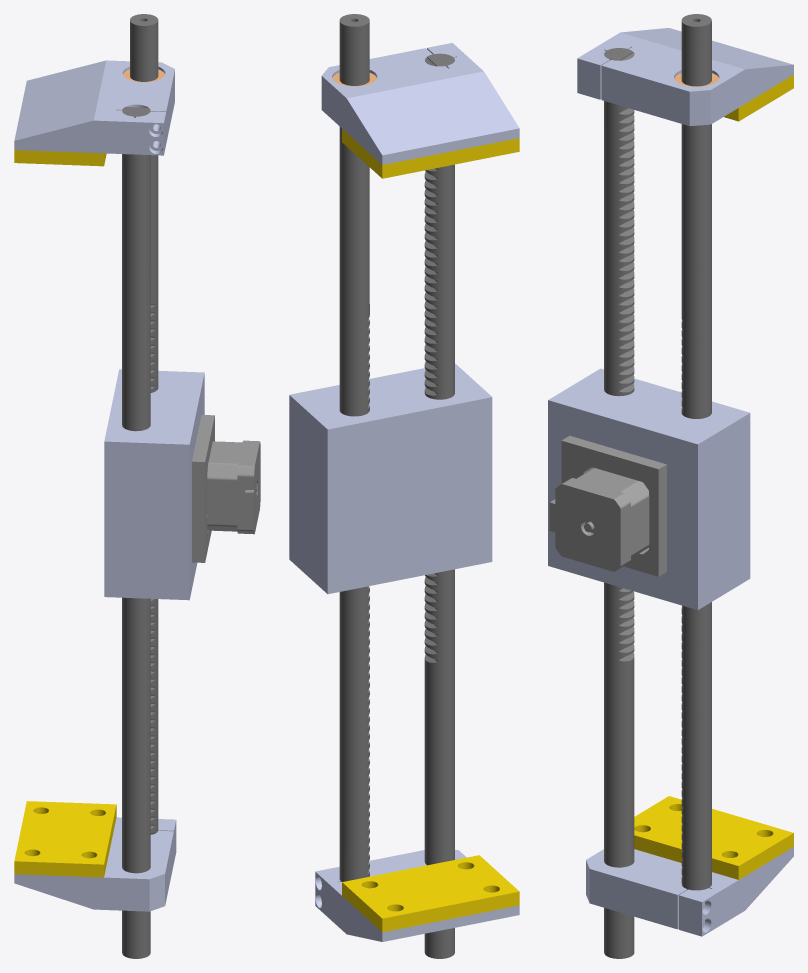
The model's file is endd effector working.obj.
The picture shows the model from 3 angles, left to right: view 1: azimuth 30°, elevation 25°; view 2: azimuth 150°, elevation 25°; view 3: azimuth 270°, elevation 25°; orthographic projection. The views are drawn at different scales.
Parts seen in each view (by area): view 1: Body1, Body12, Body11, Body4, Body2, Body10, Body6, Body8; view 2: Body1, Body6, Body12, Body11, Body2, Body10, Body8; view 3: Body1, Body6, Body12, Body4, Body11, Body10, Body2, Body8.
Part boxes in pixels (x1,y1,x2,y2): Body1: [104, 369, 204, 600]; Body12: [122, 107, 150, 958]; Body11: [14, 60, 174, 155]; Body4: [192, 415, 260, 562]; Body2: [14, 801, 116, 877]; Body10: [14, 817, 176, 911]; Body6: [130, 14, 158, 834]; Body8: [14, 150, 106, 166]; Body1: [289, 363, 492, 594]; Body6: [339, 14, 369, 881]; Body12: [424, 53, 454, 958]; Body11: [321, 43, 519, 164]; Body2: [342, 855, 519, 932]; Body10: [315, 849, 519, 941]; Body8: [342, 129, 519, 178]; Body1: [548, 368, 750, 610]; Body6: [681, 14, 711, 890]; Body12: [604, 48, 634, 958]; Body4: [549, 435, 666, 576]; Body11: [577, 28, 793, 126]; Body10: [586, 847, 793, 936]; Body2: [634, 796, 793, 879]; Body8: [724, 74, 793, 121].
Bounding box in the file's own units: 14.45 × 55.29 × 12.9.
